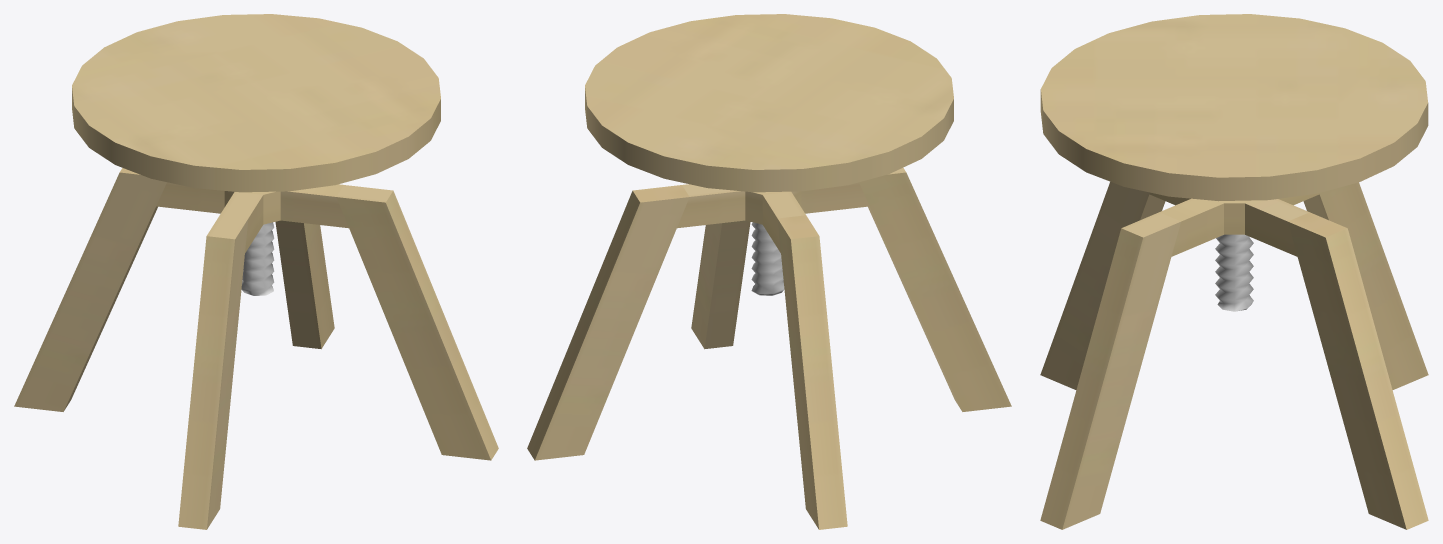
Rendered from sh-contrib-stool-small.glb.
3 renders of one model, left to right at view 1: azimuth 30°, elevation 25°; view 2: azimuth 150°, elevation 25°; view 3: azimuth 270°, elevation 25°, orthographic. The views are drawn at different scales.
Parts seen in each view (by area): view 1: base_1, sweethome3d_rail_1_2; view 2: base_1, sweethome3d_rail_1_2; view 3: base_1, sweethome3d_rail_1_2.
Boxes of the visible parts, bbox=[...] form: base_1: bbox=[14, 14, 498, 529]; sweethome3d_rail_1_2: bbox=[241, 222, 274, 295]; base_1: bbox=[527, 14, 1011, 529]; sweethome3d_rail_1_2: bbox=[751, 222, 784, 295]; base_1: bbox=[1040, 14, 1428, 529]; sweethome3d_rail_1_2: bbox=[1215, 234, 1253, 311].
Size of the model in its own units: 1 by 1 by 1.
2 materials, 1 textured.
